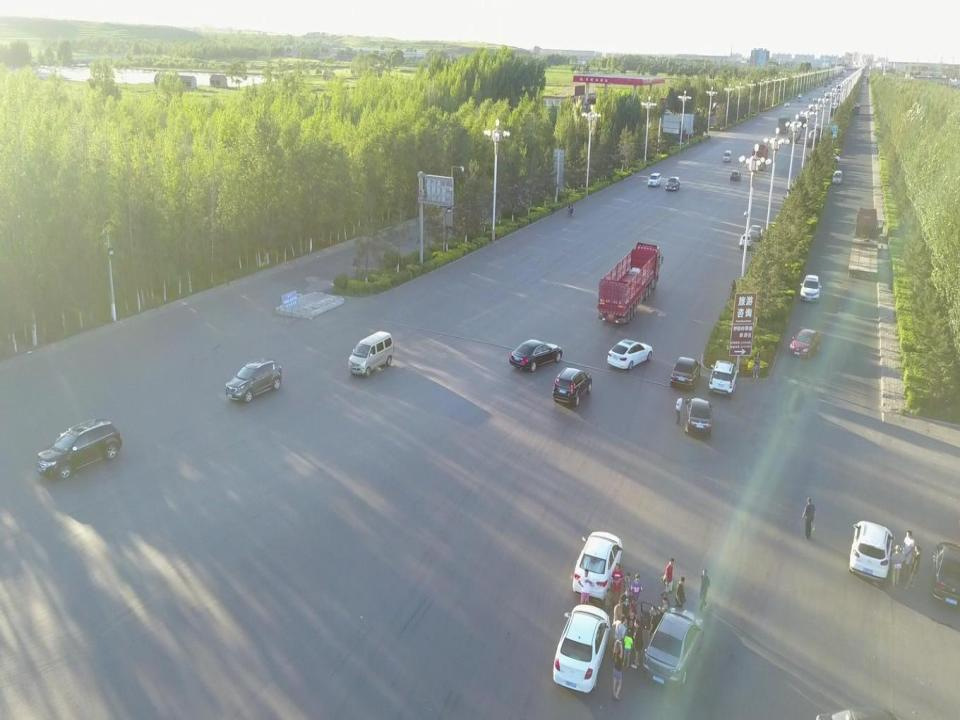car: (640, 602, 705, 686), (36, 418, 124, 480), (554, 604, 612, 693), (573, 531, 622, 602), (848, 521, 896, 584), (224, 358, 282, 402), (930, 541, 960, 608), (508, 338, 564, 372), (551, 368, 593, 407), (606, 339, 654, 372), (684, 397, 714, 437), (670, 356, 702, 392), (708, 359, 738, 396), (788, 328, 821, 357), (799, 274, 822, 302), (739, 234, 753, 252), (748, 225, 763, 241), (665, 177, 680, 191), (730, 170, 741, 181), (783, 102, 790, 107), (812, 97, 816, 102), (808, 95, 811, 100)
truck: (598, 242, 663, 325), (848, 207, 883, 280), (751, 144, 770, 170), (806, 126, 822, 148), (777, 114, 790, 134), (787, 125, 801, 143), (798, 112, 810, 128), (829, 100, 840, 116), (852, 102, 860, 114), (797, 93, 803, 102)
van: (348, 332, 395, 376), (646, 172, 661, 188), (832, 170, 842, 186), (722, 150, 731, 162)
